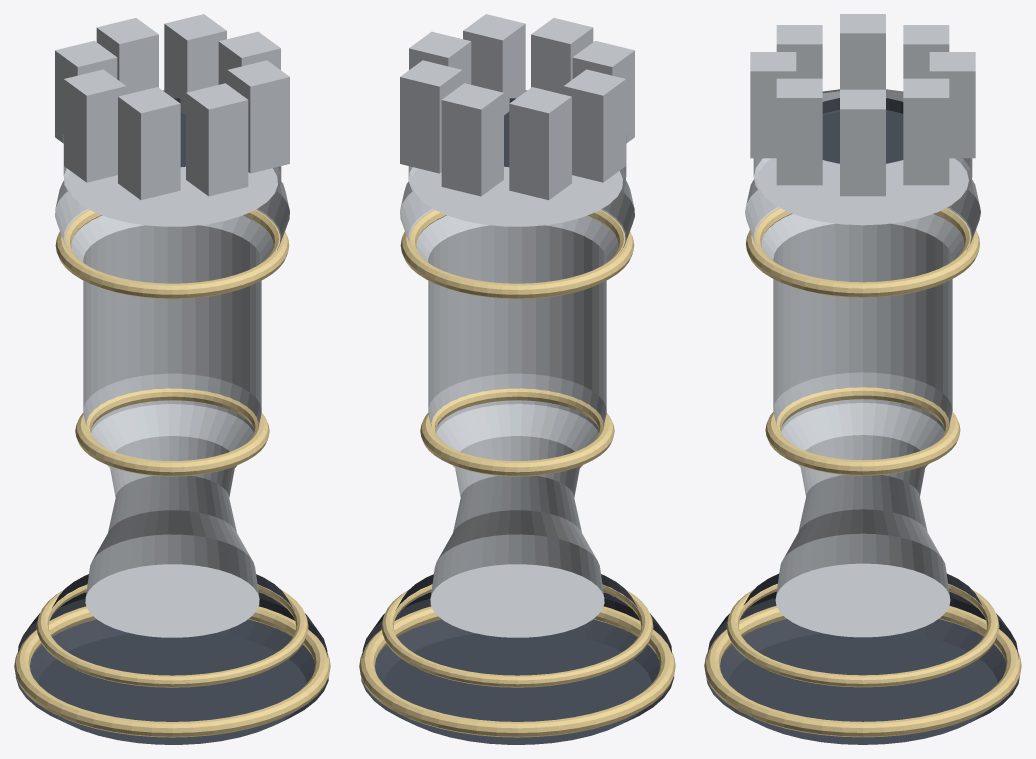
File: rook.glb
The picture shows the model from 3 angles, left to right: view 1: azimuth 30°, elevation 25°; view 2: azimuth 150°, elevation 25°; view 3: azimuth 270°, elevation 25°; orthographic projection.
Visible parts, largest first — view 1: rook_Polished Platinum, rook_Champagne Gold, rook_Obsidian Enamel; view 2: rook_Polished Platinum, rook_Champagne Gold, rook_Obsidian Enamel; view 3: rook_Polished Platinum, rook_Obsidian Enamel, rook_Champagne Gold.
Boxes of the visible parts, x1,y1,x2,y2 form: rook_Polished Platinum: (55,14,289,637); rook_Champagne Gold: (14,209,330,737); rook_Obsidian Enamel: (15,98,328,744); rook_Polished Platinum: (400,14,634,637); rook_Champagne Gold: (359,209,675,737); rook_Obsidian Enamel: (361,98,674,744); rook_Polished Platinum: (745,14,980,637); rook_Obsidian Enamel: (706,98,1019,744); rook_Champagne Gold: (704,208,1021,737).
Size of the model in its own units: 0.726 by 1.58 by 0.726.
